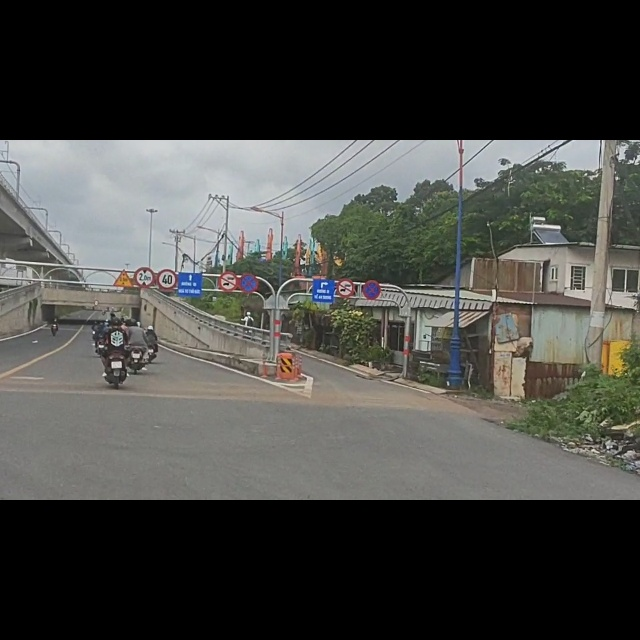bien_chi_dan: (134, 225, 155, 264), (157, 230, 178, 267), (112, 228, 133, 264), (218, 232, 238, 269), (362, 248, 381, 286), (239, 237, 258, 273), (337, 247, 354, 282)
